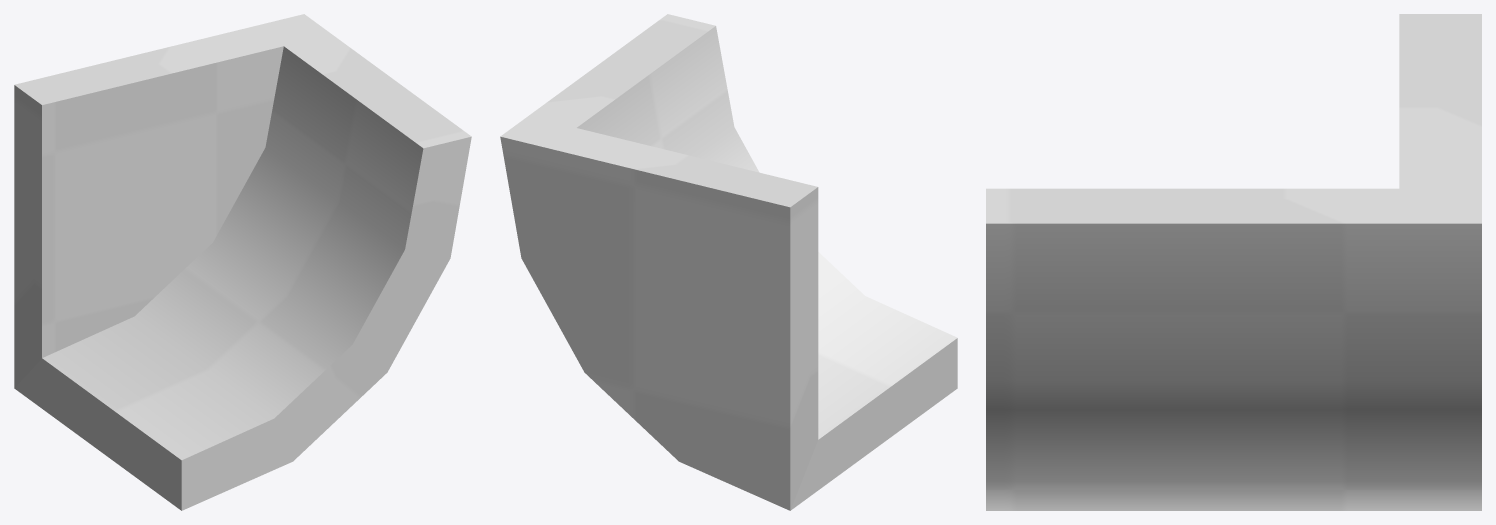
File: enginehall_end_corner_bottomright.fbx
3 renders of one model, left to right at view 1: azimuth 30°, elevation 25°; view 2: azimuth 150°, elevation 25°; view 3: azimuth 270°, elevation 25°, orthographic. The views are drawn at different scales.
Parts seen in each view (by area): view 1: enginehall_end_corner_bottomright; view 2: enginehall_end_corner_bottomright; view 3: enginehall_end_corner_bottomright.
Boxes of the visible parts, x1,y1,x2,y2 form: enginehall_end_corner_bottomright: (14,14,471,510); enginehall_end_corner_bottomright: (500,14,957,510); enginehall_end_corner_bottomright: (986,14,1481,510).
Bounding box in the file's own units: 120 × 120 × 120.
